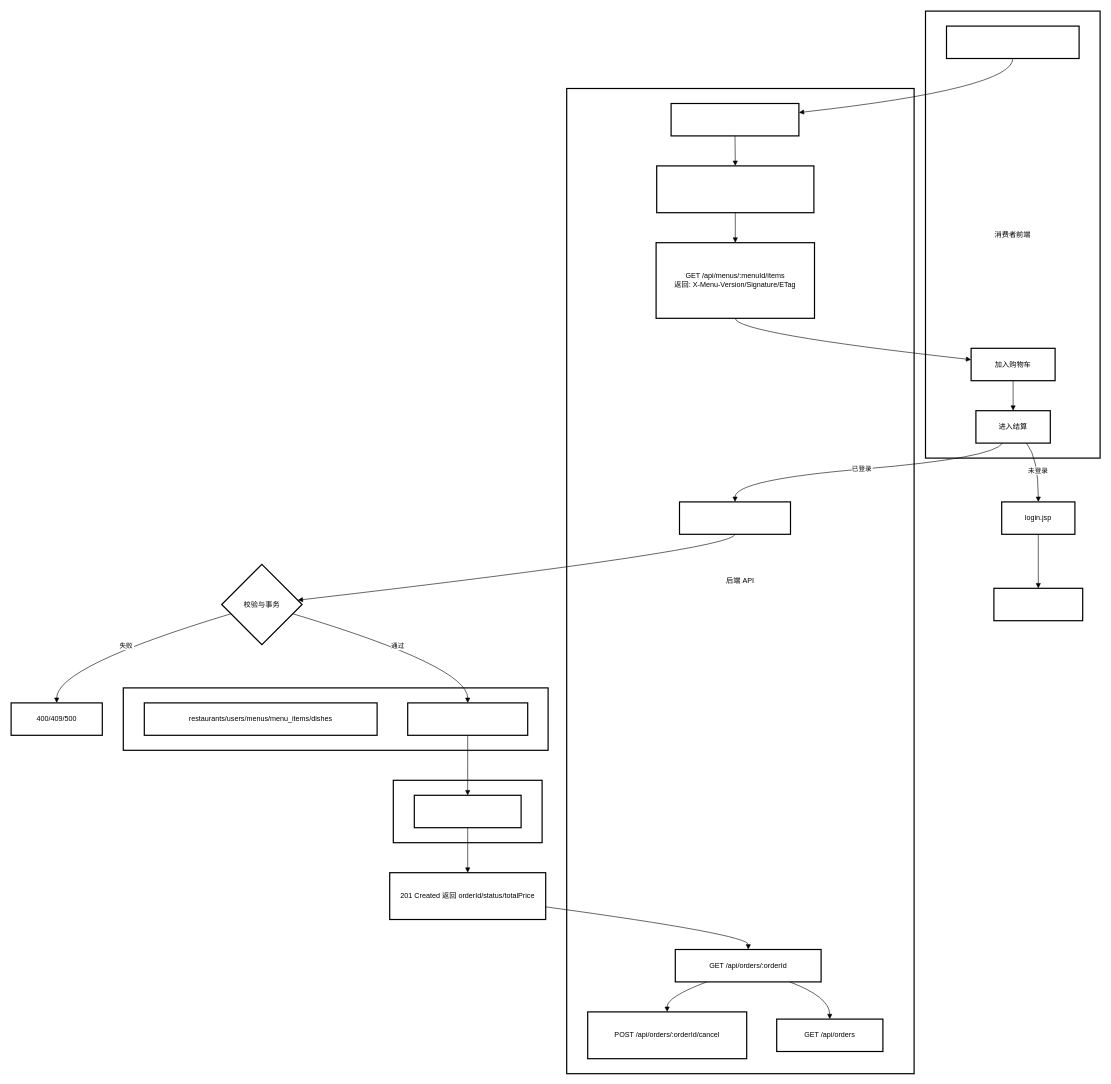
This 1111x1084 diagram has some shape labels left out. The shapes that lost their labels are listed below. From the top down, each one's centre as x and y in pixels, then its label:
point 1012,42: 浏览餐厅/菜单/菜单项
point 734,119: GET /api/restaurants
point 735,189: GET /api/restaurants/:id/menus
point 735,518: POST /api/orders
point 1038,604: LoginServlet
point 467,719: orders/order_items
point 467,811: KitchenEventBus
